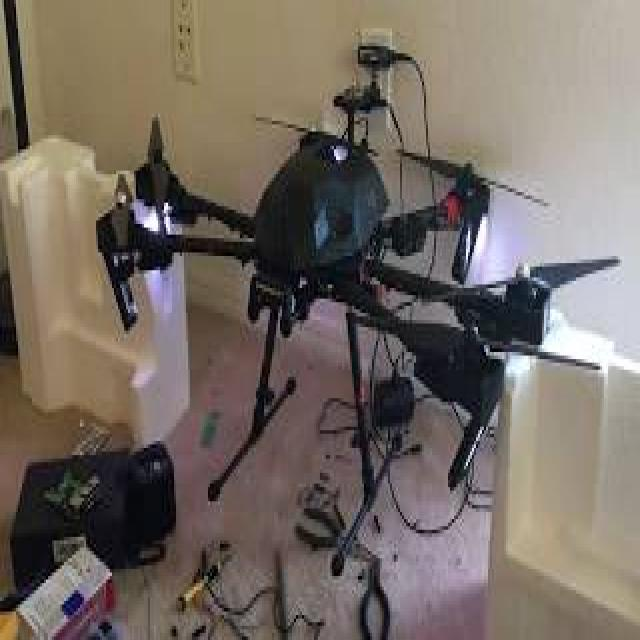drone: (92, 36, 618, 494)
